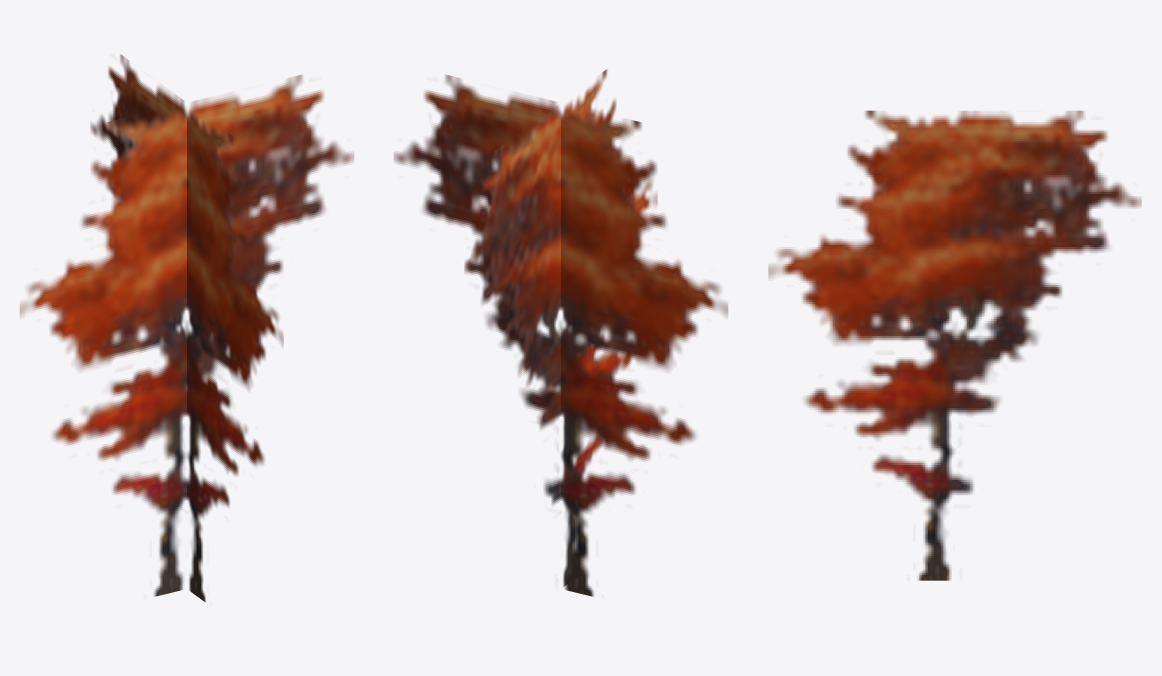
The model's file is tree8.glb.
3 renders of one model, left to right at view 1: azimuth 30°, elevation 25°; view 2: azimuth 150°, elevation 25°; view 3: azimuth 270°, elevation 25°, orthographic. The views are drawn at different scales.
Visible parts, largest first — view 1: tree8; view 2: tree8; view 3: tree8.
Boxes of the visible parts, x1,y1,x2,y2 form: tree8: [20, 54, 353, 602]; tree8: [394, 69, 727, 596]; tree8: [768, 110, 1141, 580].
Size of the model in its own units: 9 by 12.5 by 9.
1 material, 1 textured.
